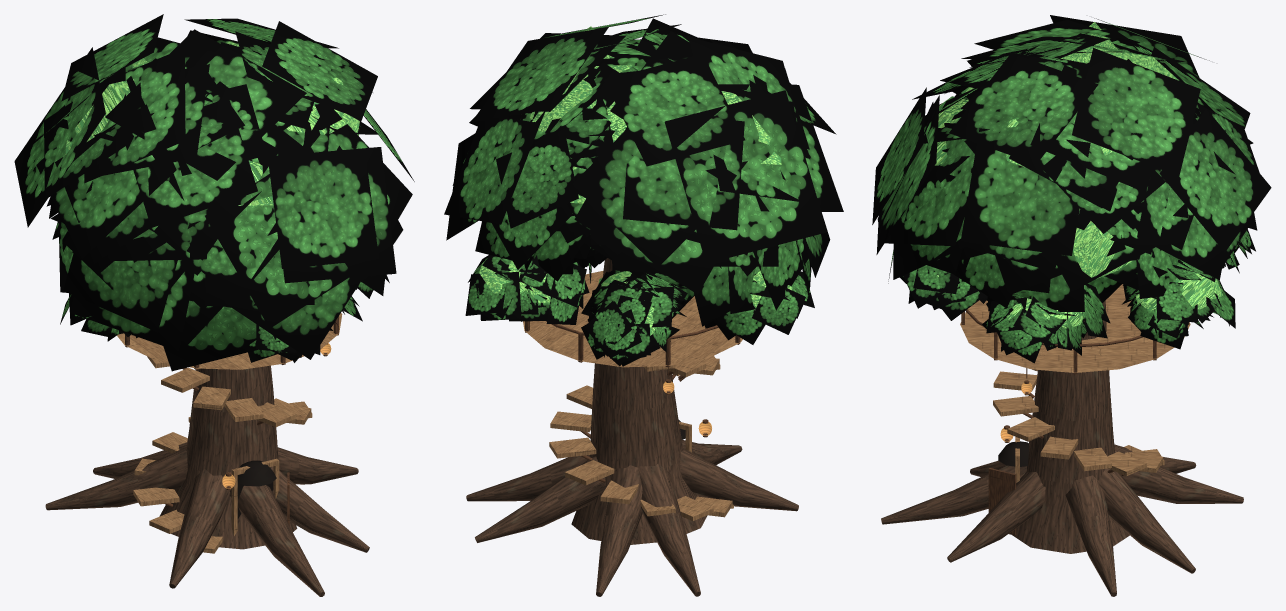
The model's file is tree_old_hollow.gltf.
3 renders of one model, left to right at view 1: azimuth 30°, elevation 25°; view 2: azimuth 150°, elevation 25°; view 3: azimuth 270°, elevation 25°, orthographic. The views are drawn at different scales.
Visible parts, largest first — view 1: Crown, Trunk, Deck; view 2: Crown, Trunk, Deck; view 3: Crown, Trunk, Deck.
Part boxes in pixels (left/top/right/bottom): Crown: left=14, top=14, right=414, bottom=371; Trunk: left=45, top=365, right=369, bottom=596; Deck: left=117, top=313, right=342, bottom=553; Crown: left=444, top=14, right=843, bottom=366; Trunk: left=466, top=258, right=798, bottom=596; Deck: left=523, top=270, right=742, bottom=520; Crown: left=872, top=15, right=1271, bottom=363; Trunk: left=881, top=300, right=1243, bottom=596; Deck: left=960, top=284, right=1190, bottom=535.
Size of the model in its own units: 13.2 by 17.81 by 13.16.
Materials: 7 (7 with a texture image).
